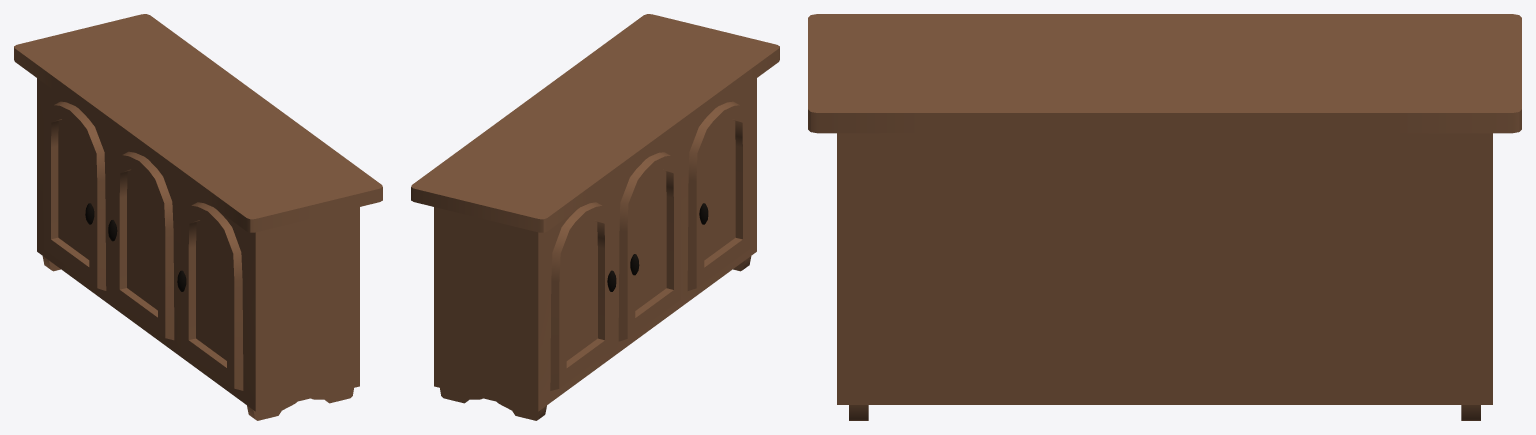
The model's file is 078_079_bedside_table_long.glb.
The picture shows the model from 3 angles, left to right: view 1: azimuth 30°, elevation 25°; view 2: azimuth 150°, elevation 25°; view 3: azimuth 270°, elevation 25°; orthographic projection. The views are drawn at different scales.
Parts seen in each view (by area): view 1: table, knob; view 2: table, knob; view 3: table.
Part boxes in pixels (x1,y1,x2,y2): table: (14, 14, 382, 420); knob: (85, 203, 186, 291); table: (411, 14, 779, 420); knob: (607, 203, 708, 291); table: (808, 14, 1521, 420).
Size of the model in its own units: 0.7386 by 1.12 by 2.25.
